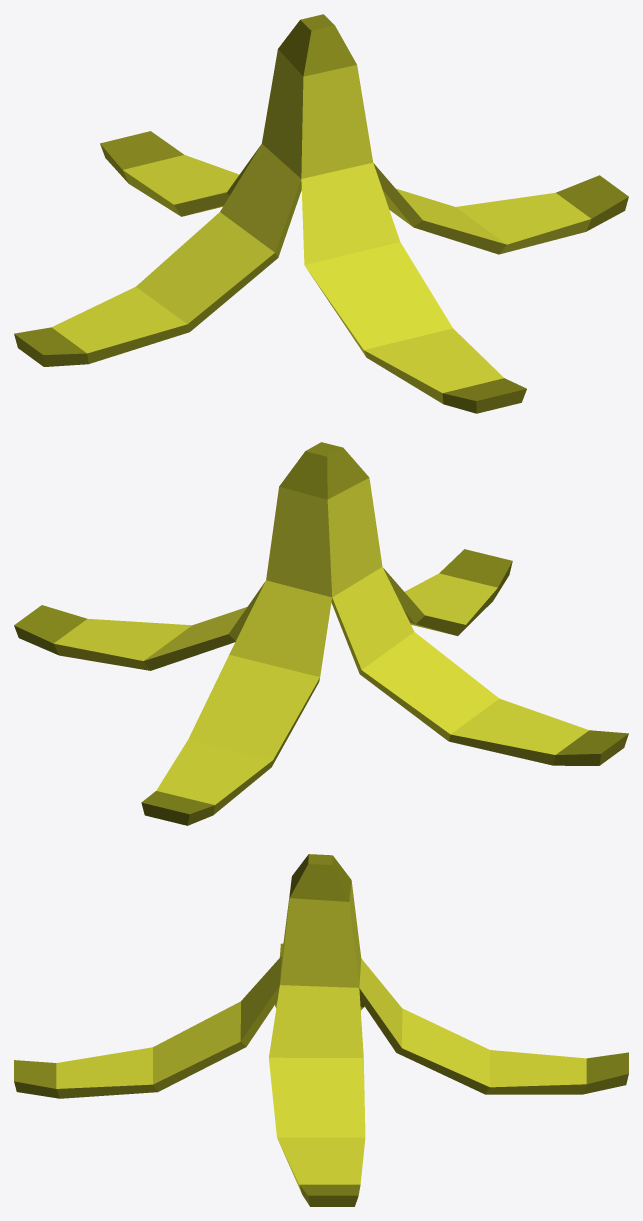
Rendered from M_Banana.fbx.
The picture shows the model from 3 angles, top to bottom: view 1: azimuth 30°, elevation 25°; view 2: azimuth 150°, elevation 25°; view 3: azimuth 270°, elevation 25°; orthographic projection. The views are drawn at different scales.
Parts seen in each view (by area): view 1: Banana; view 2: Banana; view 3: Banana.
Boxes of the visible parts, bbox=[...] form: Banana: bbox=[14, 14, 628, 413]; Banana: bbox=[14, 442, 628, 825]; Banana: bbox=[14, 854, 628, 1206].
Bounding box in the file's own units: 338 × 142 × 348.
